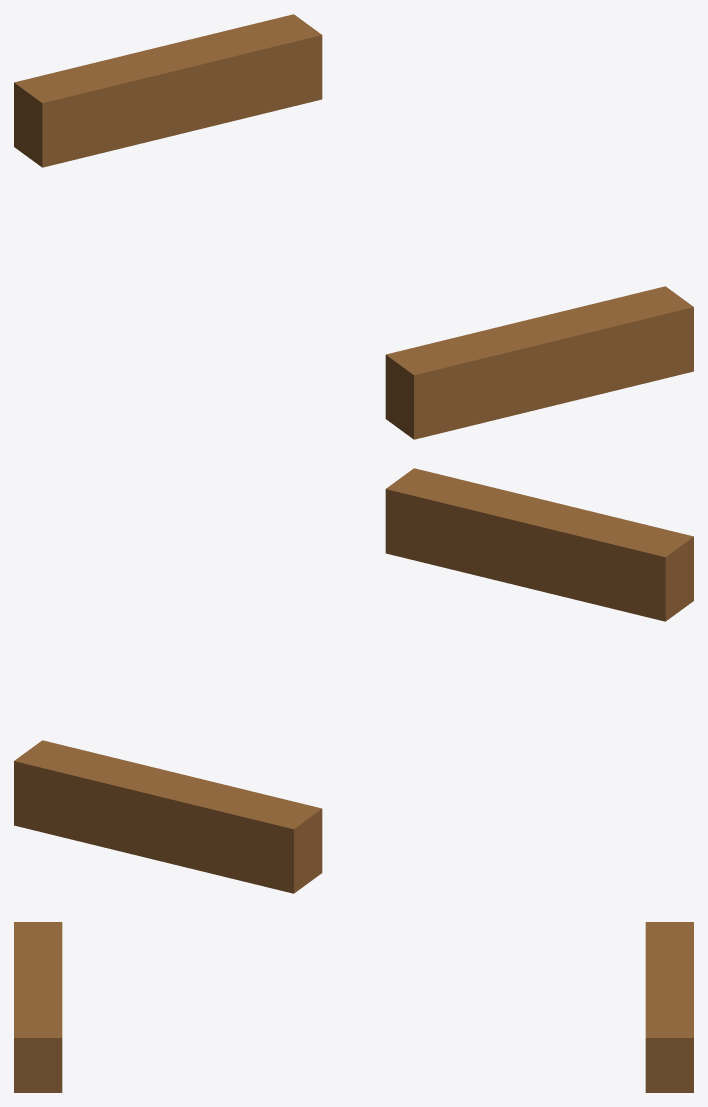
The model's file is wood.glb.
The picture shows the model from 3 angles, top to bottom: view 1: azimuth 30°, elevation 25°; view 2: azimuth 150°, elevation 25°; view 3: azimuth 270°, elevation 25°; orthographic projection. The views are drawn at different scales.
Parts seen in each view (by area): view 1: wood; view 2: wood; view 3: wood.
Part boxes in pixels (x1,y1,x2,y2): wood: (14,14,693,439); wood: (14,468,693,893); wood: (14,922,693,1092).
Bounding box in the file's own units: 1 × 0.22 × 2.48.
